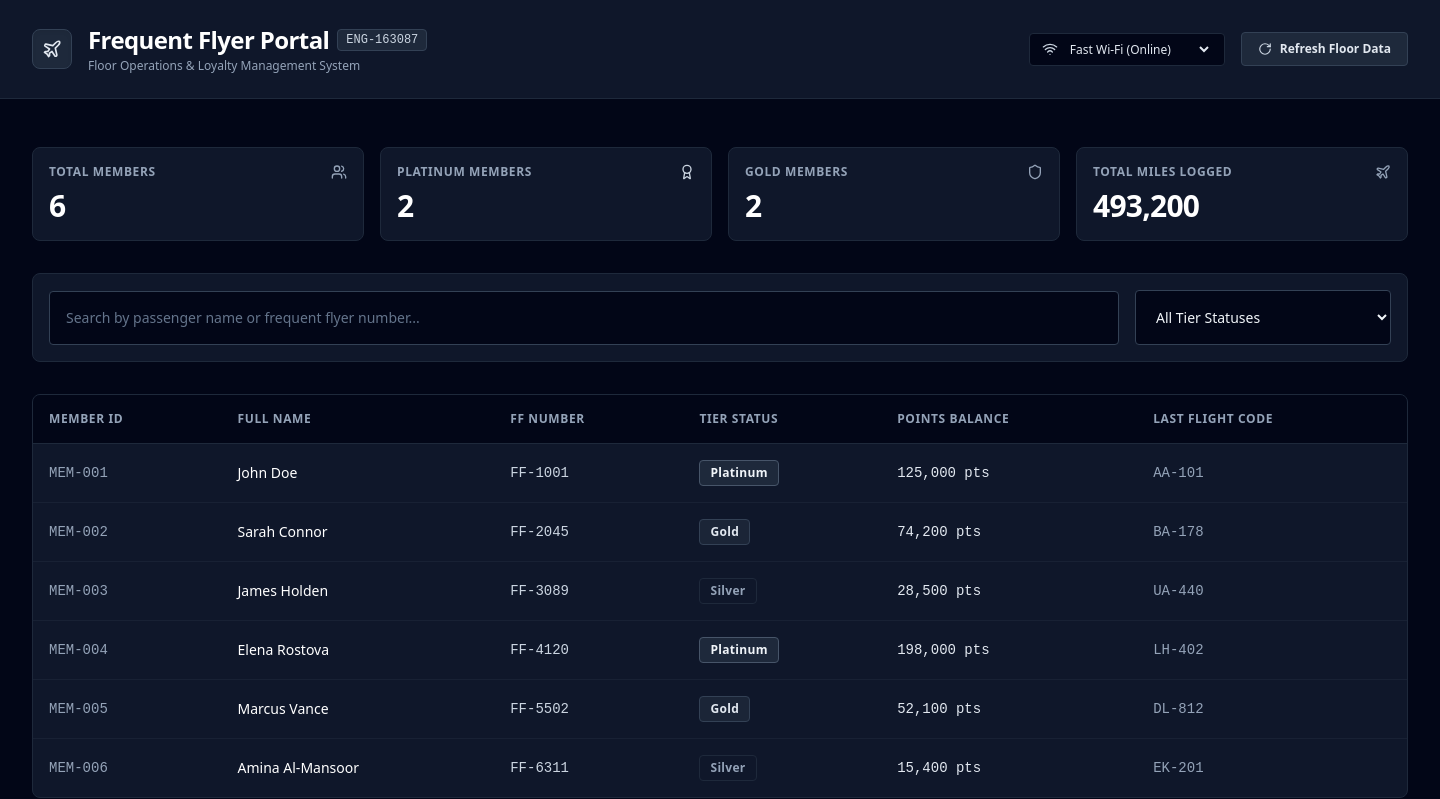
Test case: Ticket ENG-163087: Frequent Flyer Portal - Strict TDD Test Suite › 2. Unhappy Path & Edge Cases › renders an accessible "No data found" empty state when search matches no members
The image size is (1440, 799).
Type "NonExistentPassengerQueryXYZ999" into the search field named "search members" at (584, 318), box [49,290,1119,344]
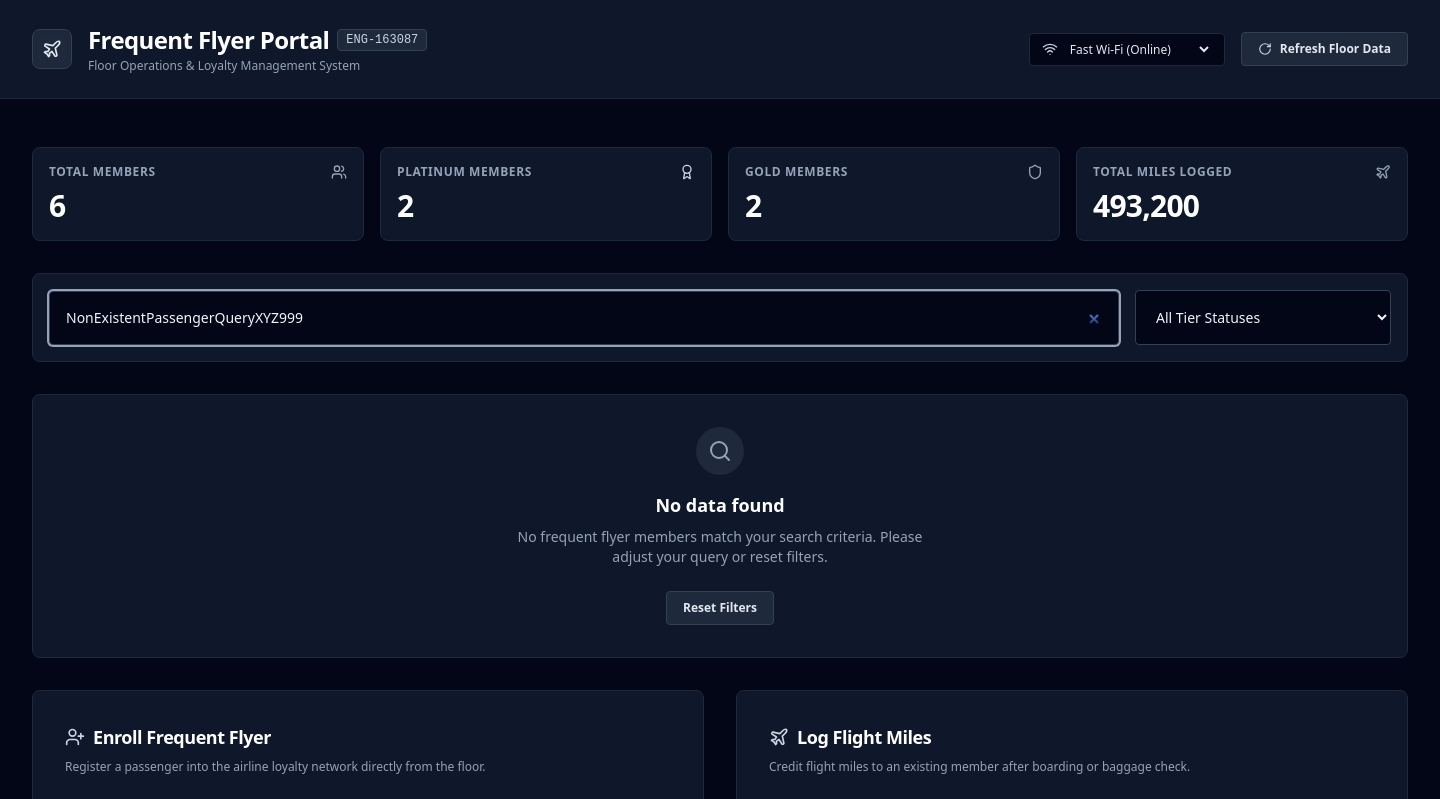
expect the message "No data found" is shown: met, box [32,394,1408,658]
expect the heading "No data found" is shown: met, box [655,491,785,519]
expect the text "No frequent flyer members match your search criteria" is shown: met, box [518,527,922,566]
